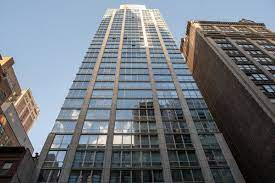Sky Building: (52, 2, 237, 179), (180, 13, 275, 172)
